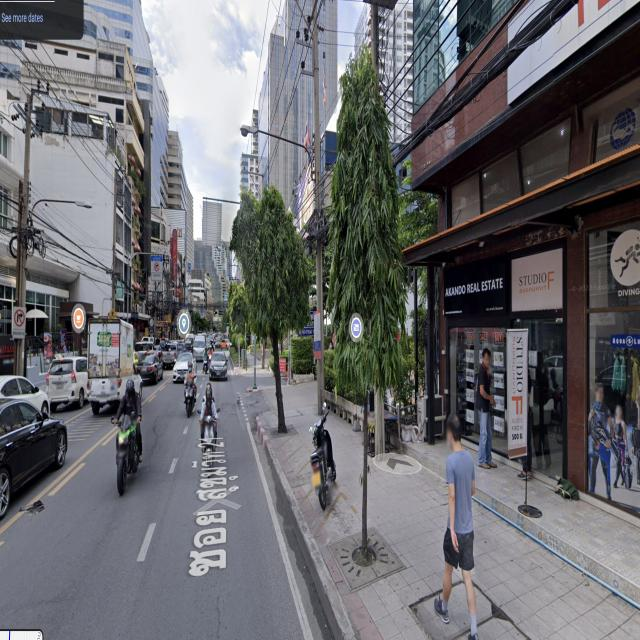tree: (324, 52, 413, 576), (219, 169, 310, 446)
